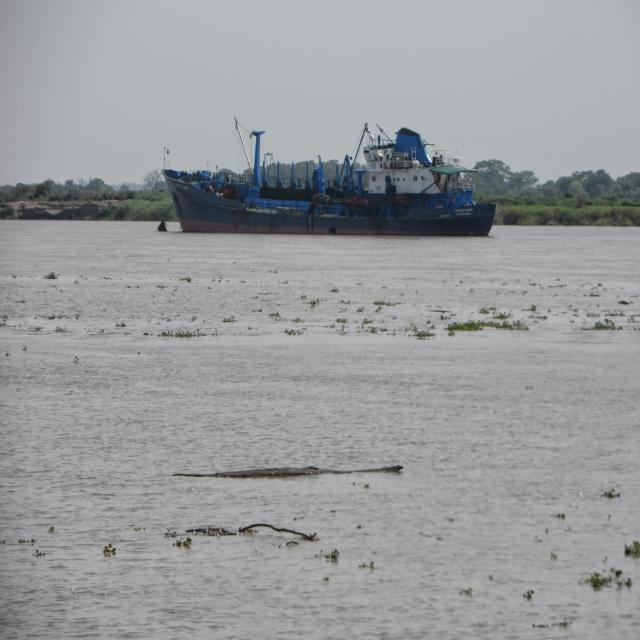fishing boat: (166, 120, 498, 235)
